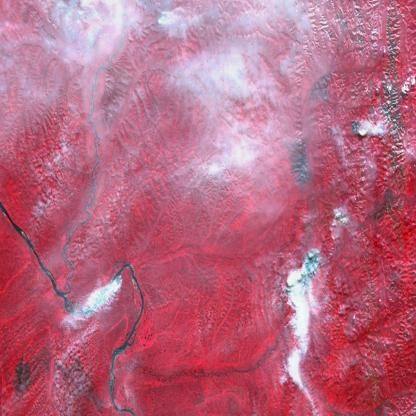fire: (284, 242, 323, 305), (347, 114, 363, 142)
